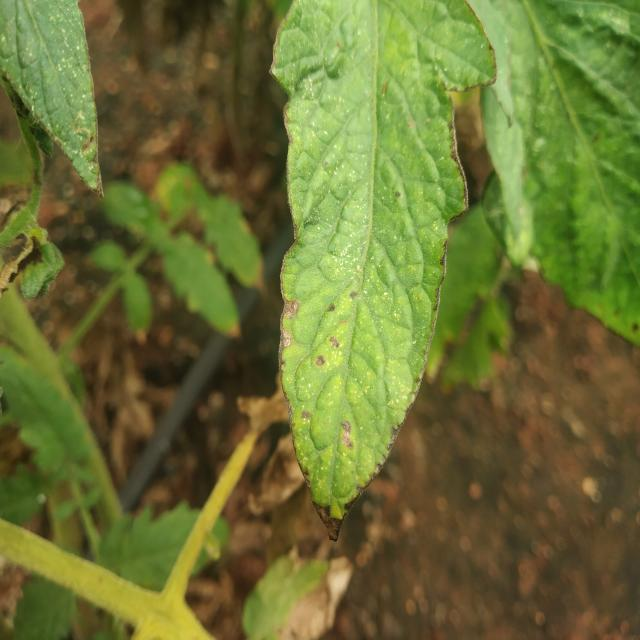Tomato mosaic virus leaf: (274, 99, 472, 550)
